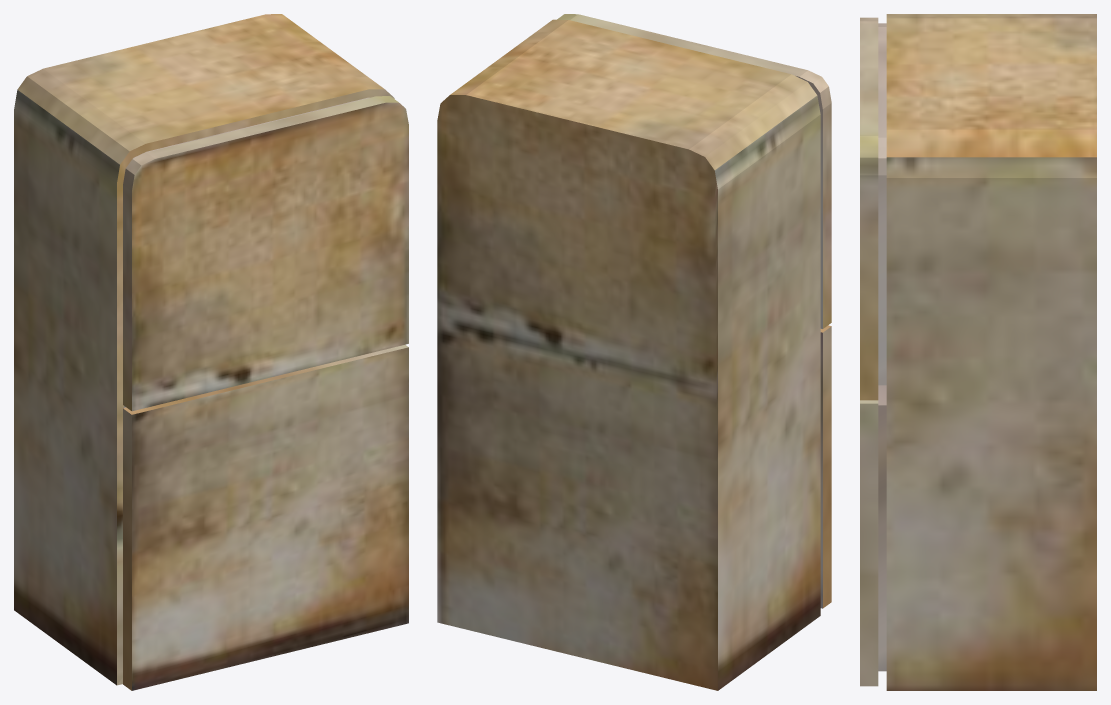
Rendered from roach_fridge.FBX.
3 renders of one model, left to right at view 1: azimuth 30°, elevation 25°; view 2: azimuth 150°, elevation 25°; view 3: azimuth 270°, elevation 25°, orthographic. The views are drawn at different scales.
Parts seen in each view (by area): view 1: fridge_body, fridge_door_bottom, fridge_door_top; view 2: fridge_body, fridge_door_top, fridge_door_bottom; view 3: fridge_body, fridge_door_top, fridge_door_bottom.
Part boxes in pixels (x1,y1,x2,y2): fridge_body: (14, 14, 394, 685); fridge_door_bottom: (123, 345, 408, 690); fridge_door_top: (123, 96, 408, 411); fridge_body: (437, 19, 820, 690); fridge_door_top: (557, 14, 831, 328); fridge_door_bottom: (820, 325, 831, 608); fridge_body: (886, 14, 1096, 690); fridge_door_top: (860, 17, 886, 400); fridge_door_bottom: (860, 385, 886, 686).
Bounding box in the file's own units: 65.87 × 120 × 47.03.
